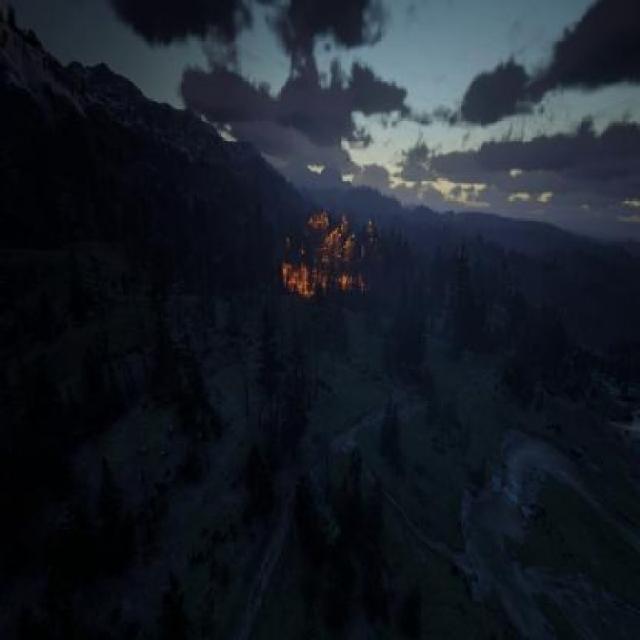Fire: (271, 193, 374, 316)
